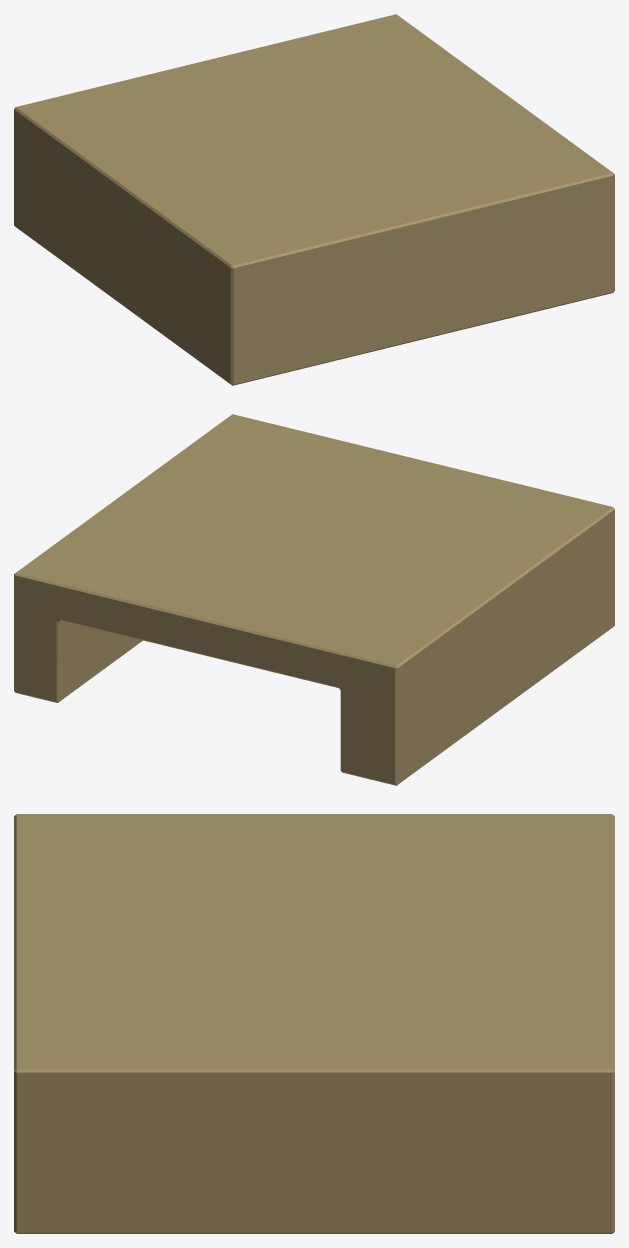
File: G_Metal_09.fbx
3 renders of one model, top to bottom at view 1: azimuth 30°, elevation 25°; view 2: azimuth 150°, elevation 25°; view 3: azimuth 270°, elevation 25°, orthographic. The views are drawn at different scales.
Visible parts, largest first — view 1: G_Metal_09; view 2: G_Metal_09; view 3: G_Metal_09.
Part boxes in pixels (x1=…): G_Metal_09: x1=14, y1=14, x2=614, y2=385; G_Metal_09: x1=14, y1=414, x2=614, y2=785; G_Metal_09: x1=14, y1=814, x2=614, y2=1233.
Size of the model in its own units: 37.76 by 11.28 by 37.25.
